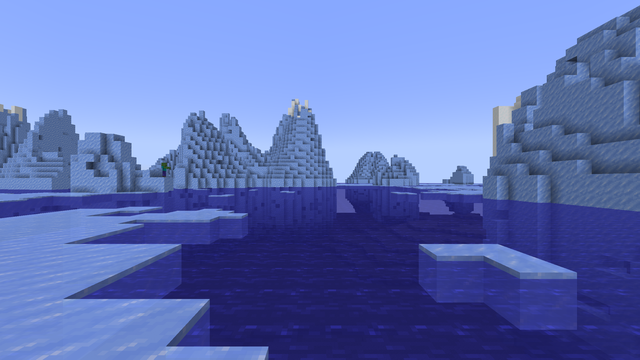zombies: (160, 162, 166, 176)
